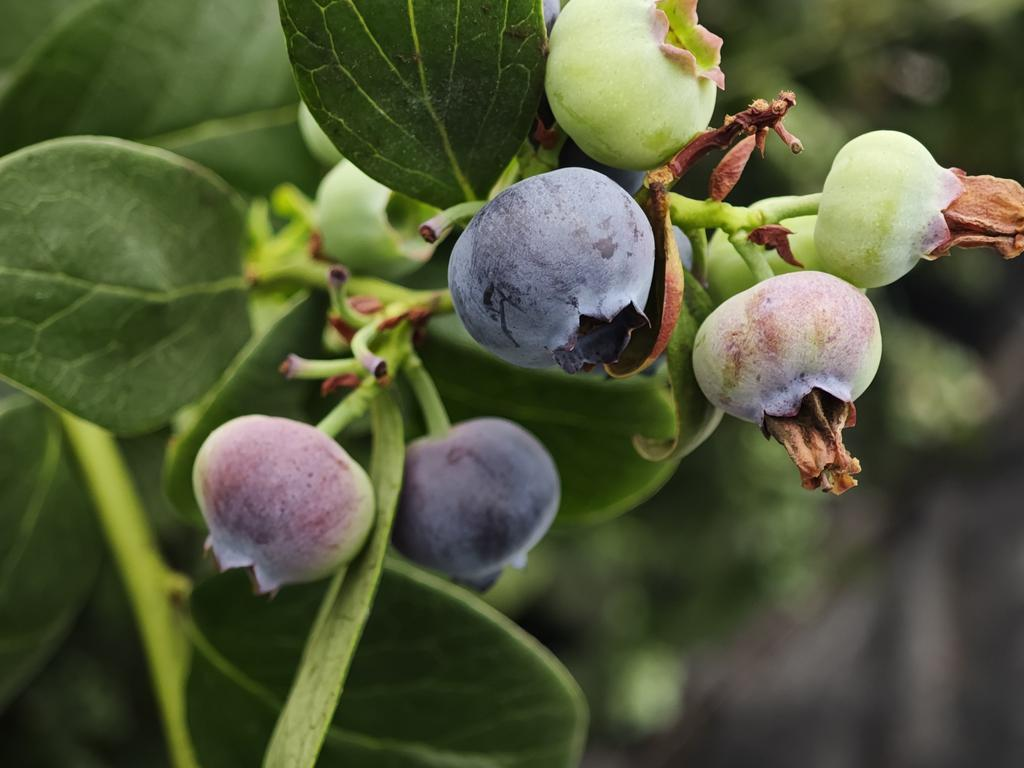RipeBlueBerry: (449, 161, 656, 364)
Semi-RipeBlueBerry: (696, 271, 882, 441), (200, 411, 372, 578)
UnripeBlueBerry: (546, 2, 717, 161), (812, 124, 958, 284)
